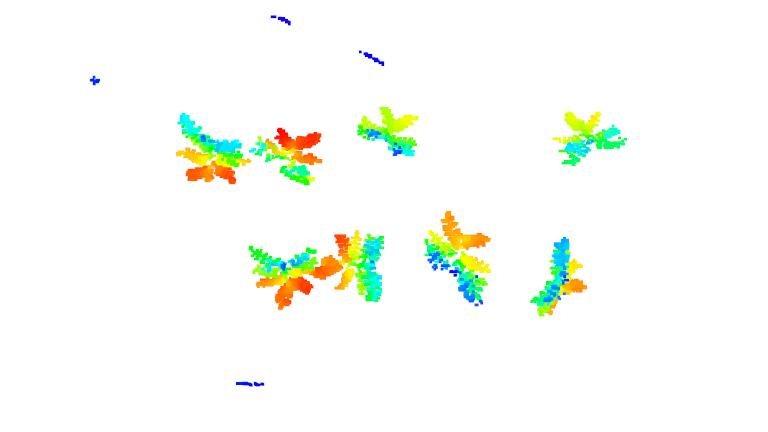chickpea: (419, 208, 493, 308), (245, 239, 325, 316), (172, 109, 251, 186), (528, 235, 592, 318), (320, 228, 389, 303), (250, 124, 327, 187), (549, 109, 629, 167), (355, 104, 421, 158)
